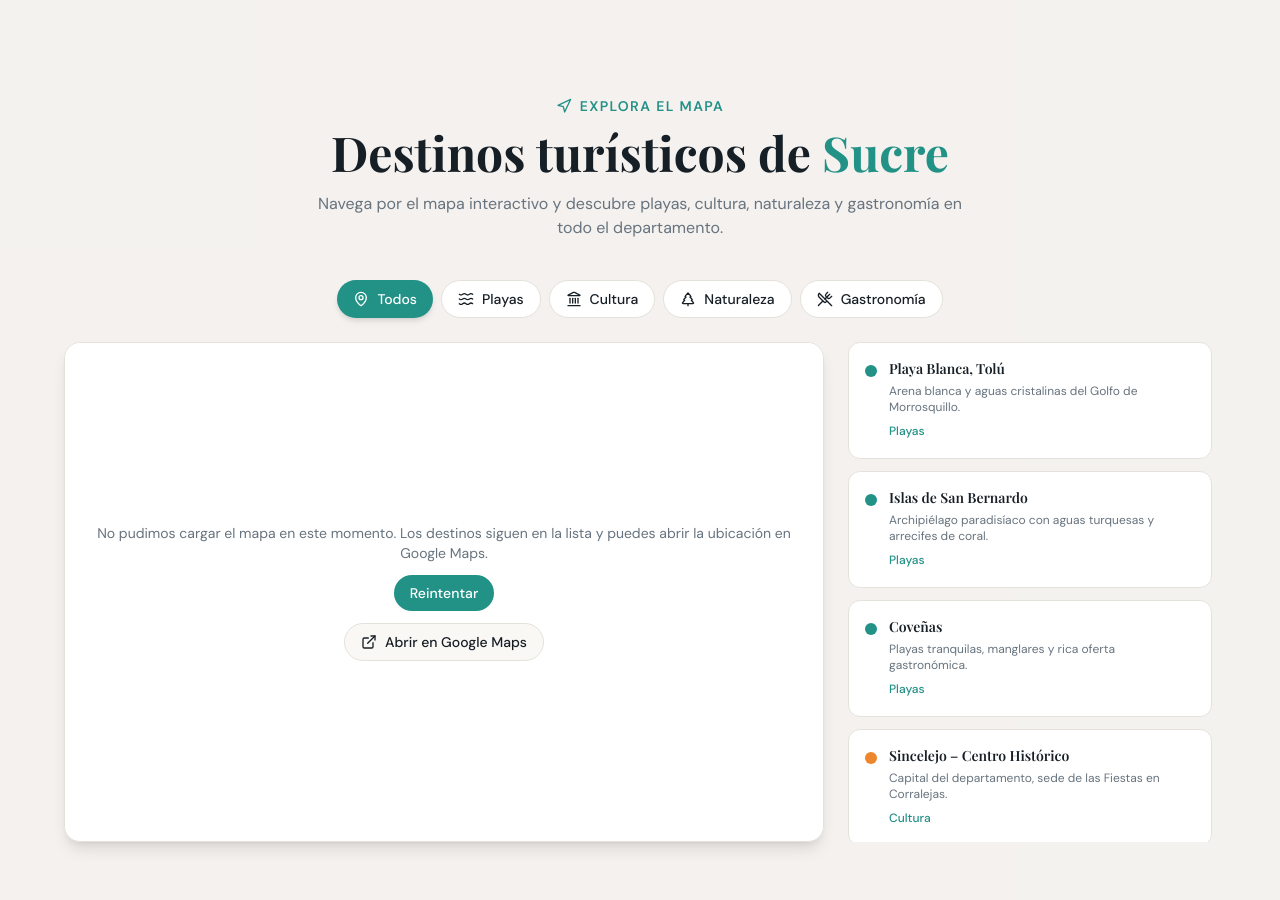
Test: MapSection › si la carga falla ofrece Reintentar y vuelve a montar el mapa
This screenshot has width=1280, height=900.
Click the button "Reintentar": (444, 593) x1=394 y1=575 x2=494 y2=611
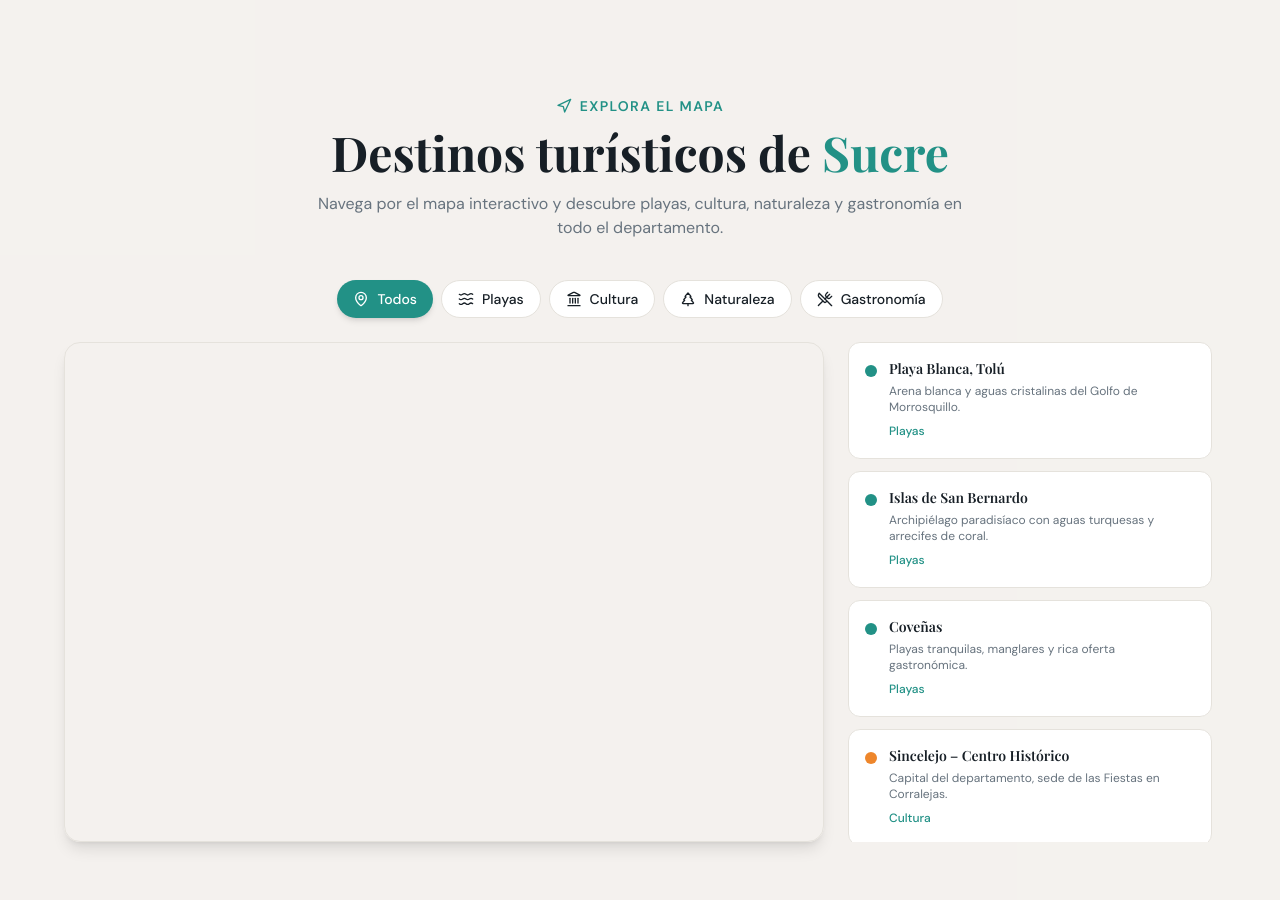
Now the element named "Mapa de Sucre" is shown, box x1=65 y1=343 x2=823 y2=841
Now the message is gone
